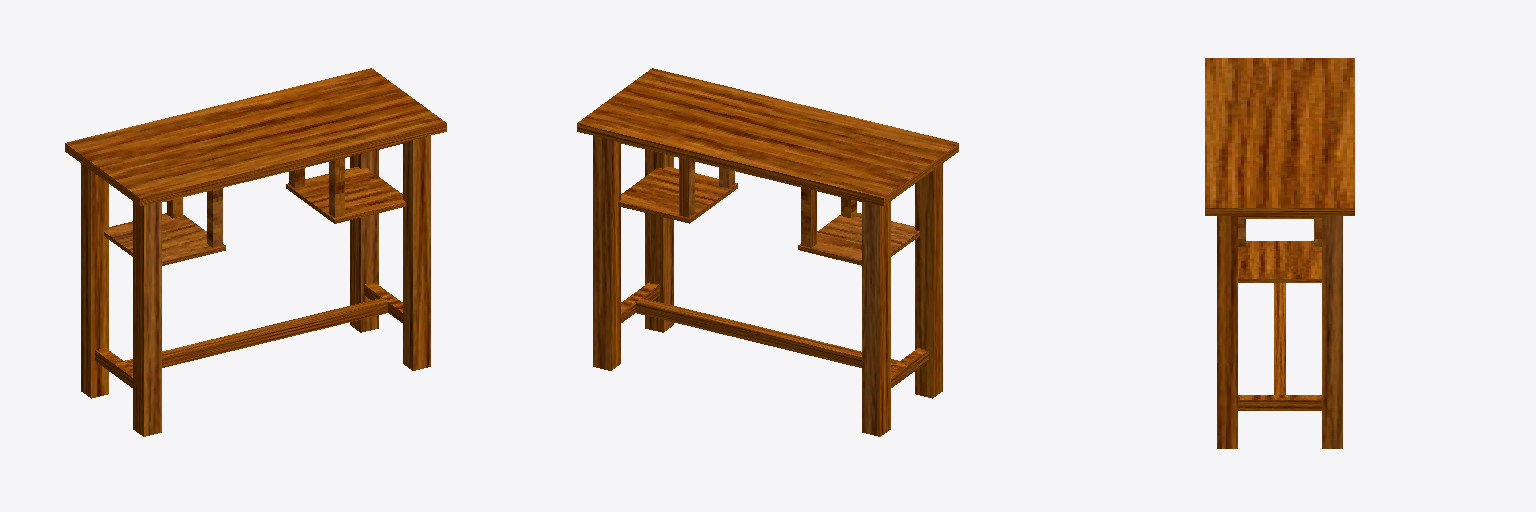
The picture shows the model from 3 angles: view 1: azimuth 30°, elevation 25°; view 2: azimuth 150°, elevation 25°; view 3: azimuth 270°, elevation 25°; orthographic projection.
Parts seen in each view (by area): view 1: Alter_Chapel.obj; view 2: Alter_Chapel.obj; view 3: Alter_Chapel.obj.
Part boxes in pixels (bbox=[...]): Alter_Chapel.obj: bbox=[65, 68, 446, 436]; Alter_Chapel.obj: bbox=[577, 68, 958, 436]; Alter_Chapel.obj: bbox=[1205, 58, 1354, 448].
Bounding box in the file's own units: 8.51 × 6.51 × 3.62.
1 materials, 1 textured.